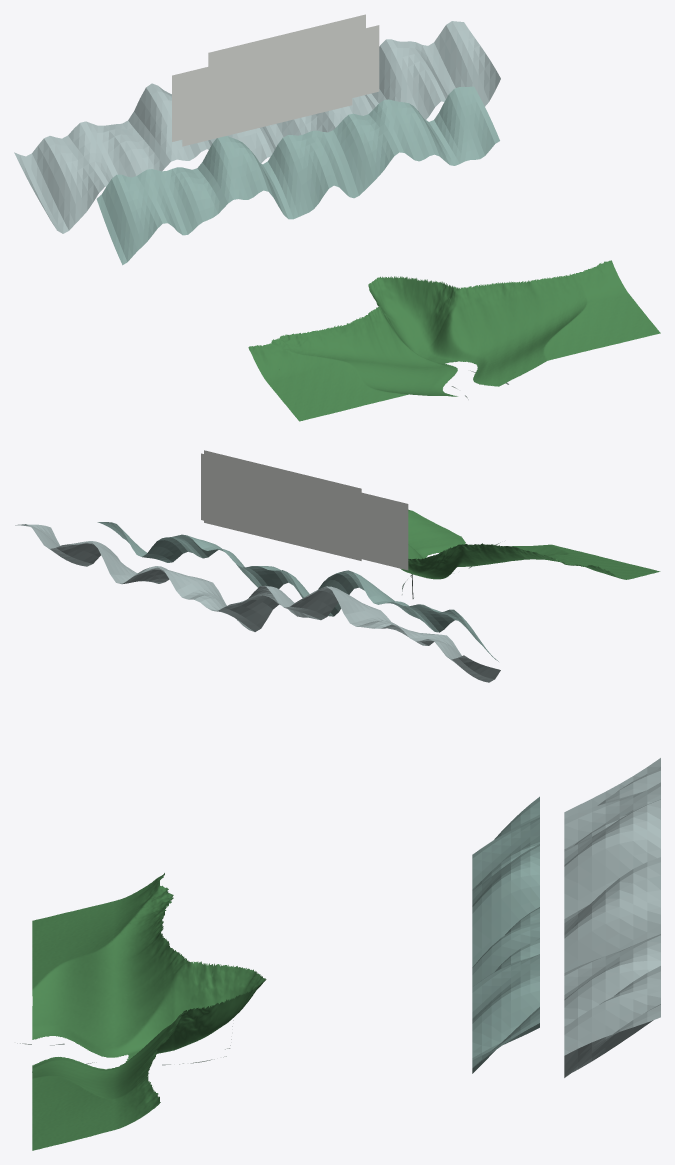
File: journey-phase2-environment.glb
The picture shows the model from 3 angles, top to bottom: view 1: azimuth 30°, elevation 25°; view 2: azimuth 150°, elevation 25°; view 3: azimuth 270°, elevation 25°; orthographic projection. The views are drawn at different scales.
Parts seen in each view (by area): view 1: P2_FOREST_MID_CANOPY, P2_RIDGE_MID, P2_RIDGE_FAR, P2_CLOUD_FAR; view 2: P2_CLOUD_FAR, P2_RIDGE_FAR, P2_FOREST_MID_CANOPY, P2_RIDGE_MID; view 3: P2_FOREST_MID_CANOPY, P2_RIDGE_FAR, P2_RIDGE_MID.
Boxes of the visible parts, box(x1,y1,x2,y2) form: P2_FOREST_MID_CANOPY: box(248, 260, 660, 421); P2_RIDGE_MID: box(96, 86, 499, 265); P2_RIDGE_FAR: box(14, 21, 500, 233); P2_CLOUD_FAR: box(172, 14, 379, 146); P2_CLOUD_FAR: box(201, 450, 408, 570); P2_RIDGE_FAR: box(15, 524, 500, 682); P2_FOREST_MID_CANOPY: box(400, 509, 660, 579); P2_RIDGE_MID: box(97, 522, 498, 661); P2_FOREST_MID_CANOPY: box(32, 873, 266, 1150); P2_RIDGE_FAR: box(564, 758, 660, 1077); P2_RIDGE_MID: box(472, 796, 539, 1073).
Size of the model in its own units: 560 by 255 by 535.
